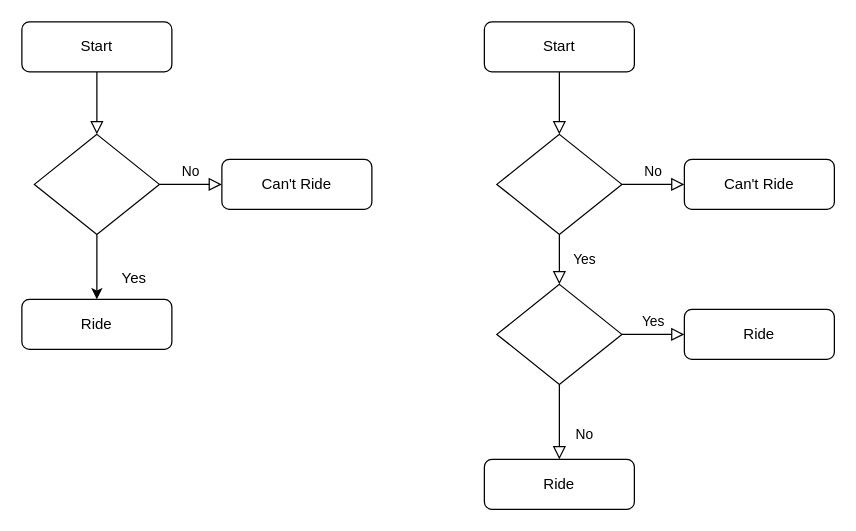
Some shapes in this 856 by 531 pixel diagram are drawn without their labels. Here are the shapes that lost their labels. From the top down, the box of each, then its label:
(33, 133, 159, 234): Height >120cm
(496, 133, 622, 234): Height >120cm and age >12
(496, 283, 622, 384): Height <120cm
